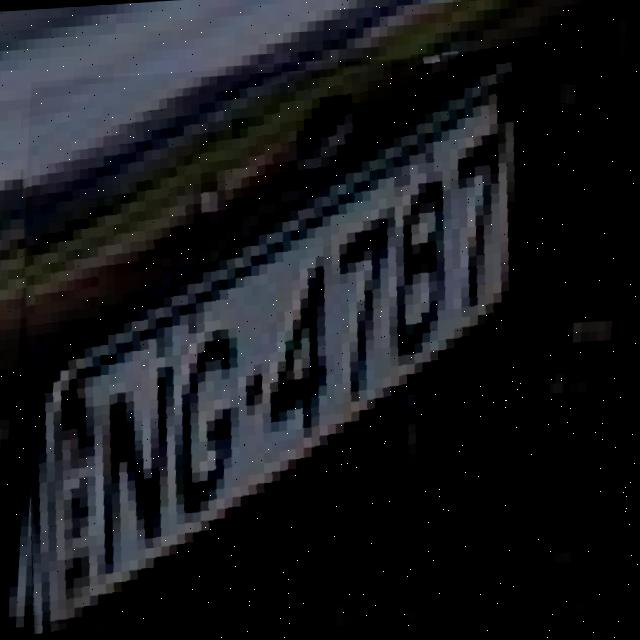LicensePlate: (0, 51, 589, 628)
